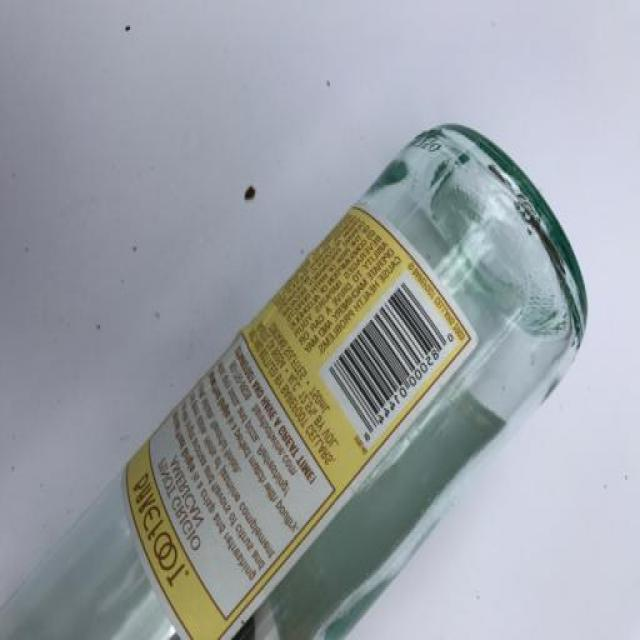glass: (0, 115, 591, 640)
